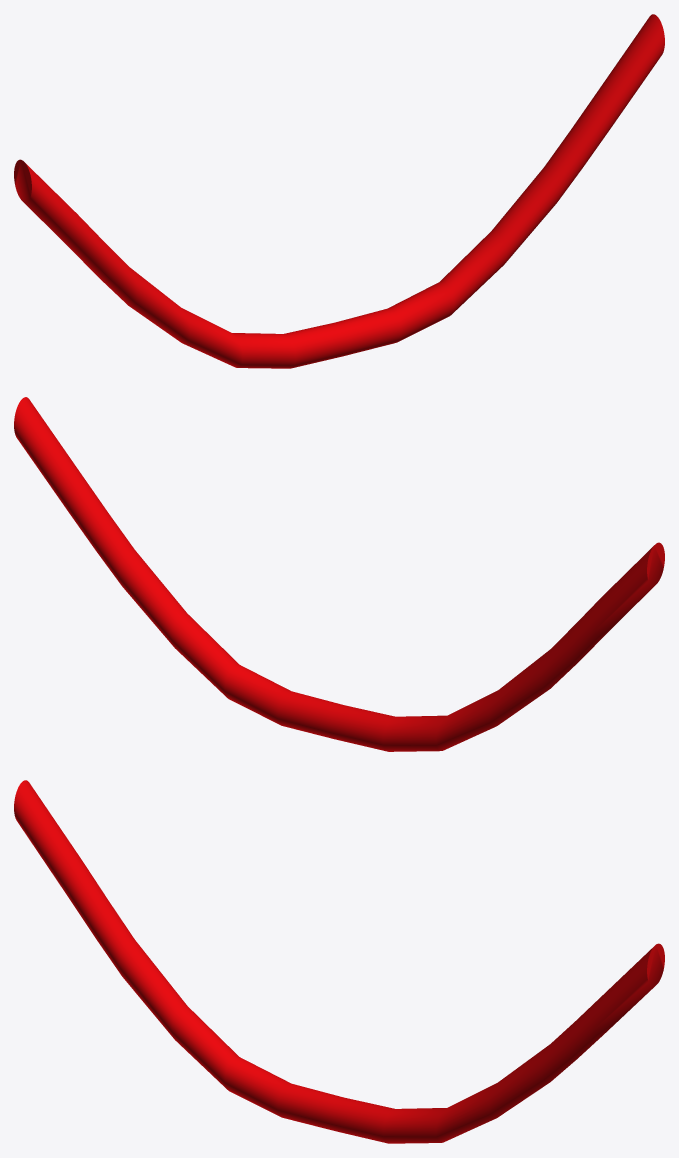
The model's file is IpHal (1).fbx.
The picture shows the model from 3 angles, top to bottom: view 1: azimuth 30°, elevation 25°; view 2: azimuth 150°, elevation 25°; view 3: azimuth 330°, elevation 25°; orthographic projection.
Visible parts, largest first — view 1: ip; view 2: ip; view 3: ip.
Boxes of the visible parts, bbox=[...] form: ip: bbox=[14, 14, 664, 368]; ip: bbox=[14, 397, 664, 751]; ip: bbox=[14, 780, 664, 1143].
Size of the model in its own units: 4.39 by 1.8 by 0.216.
